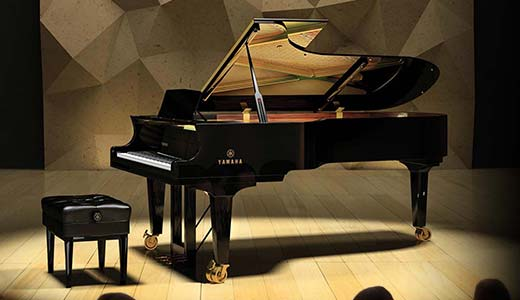GrandPiano: (104, 61, 455, 181)
